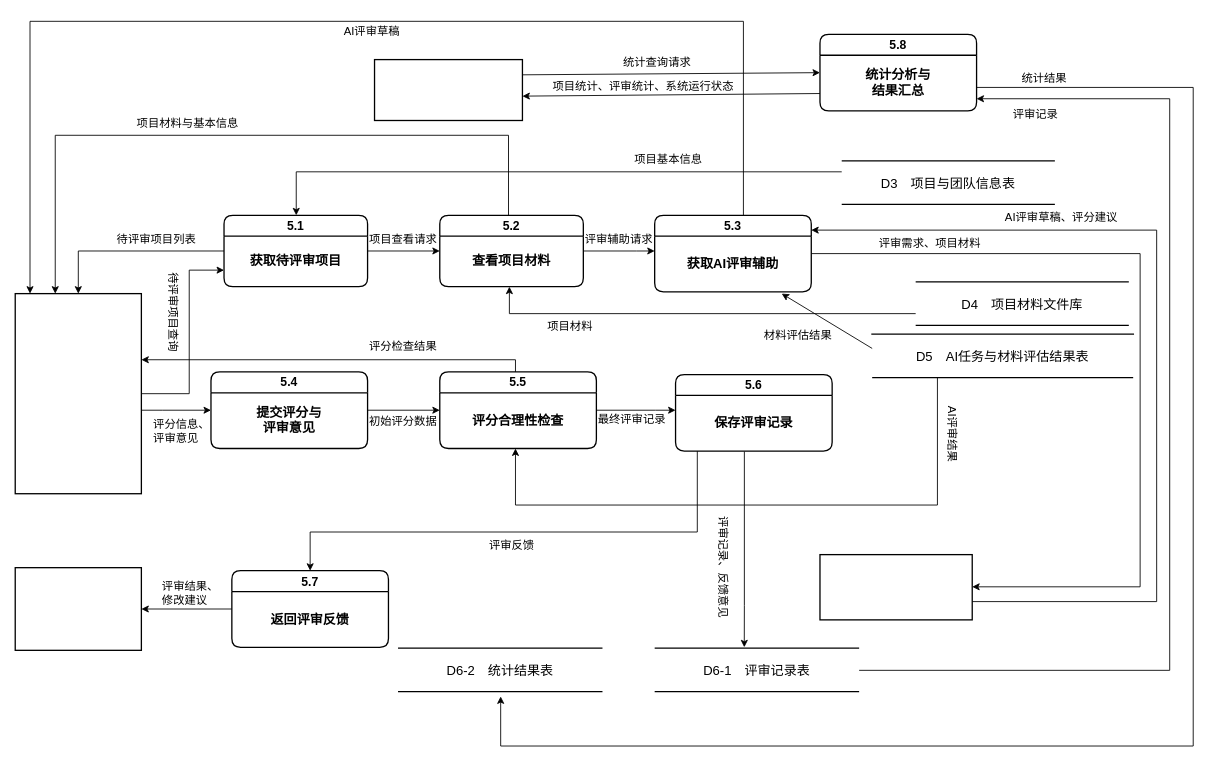
This 1216x768 diagram has some shape labels left out. The shapes that lost their labels are listed below. From the top down, each one's centre as x and y in pixels, then its label:
[448,90]: 管理员
[78,393]: 评委
[895,587]: AI大模型服务
[78,609]: 学生
